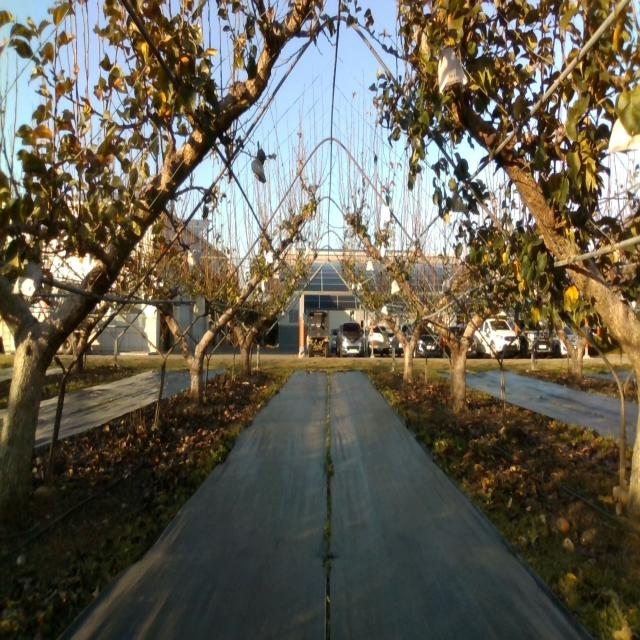pearbags: (438, 45, 468, 95), (607, 116, 640, 152), (12, 260, 42, 296), (187, 248, 204, 272), (251, 157, 266, 183), (452, 194, 467, 214), (442, 277, 452, 297)
